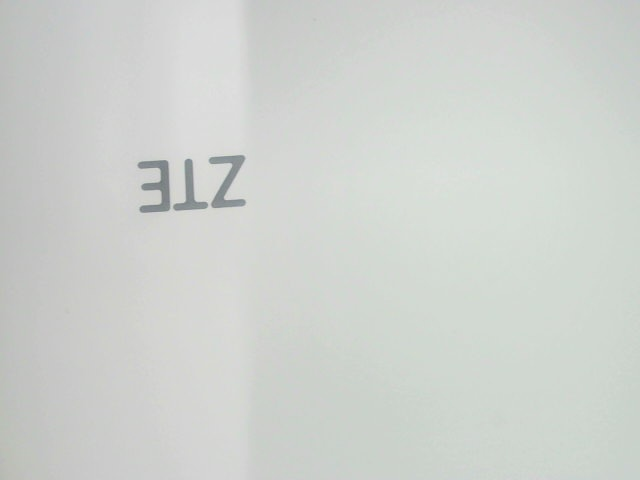AO_ZTESmall: (128, 145, 265, 227)
